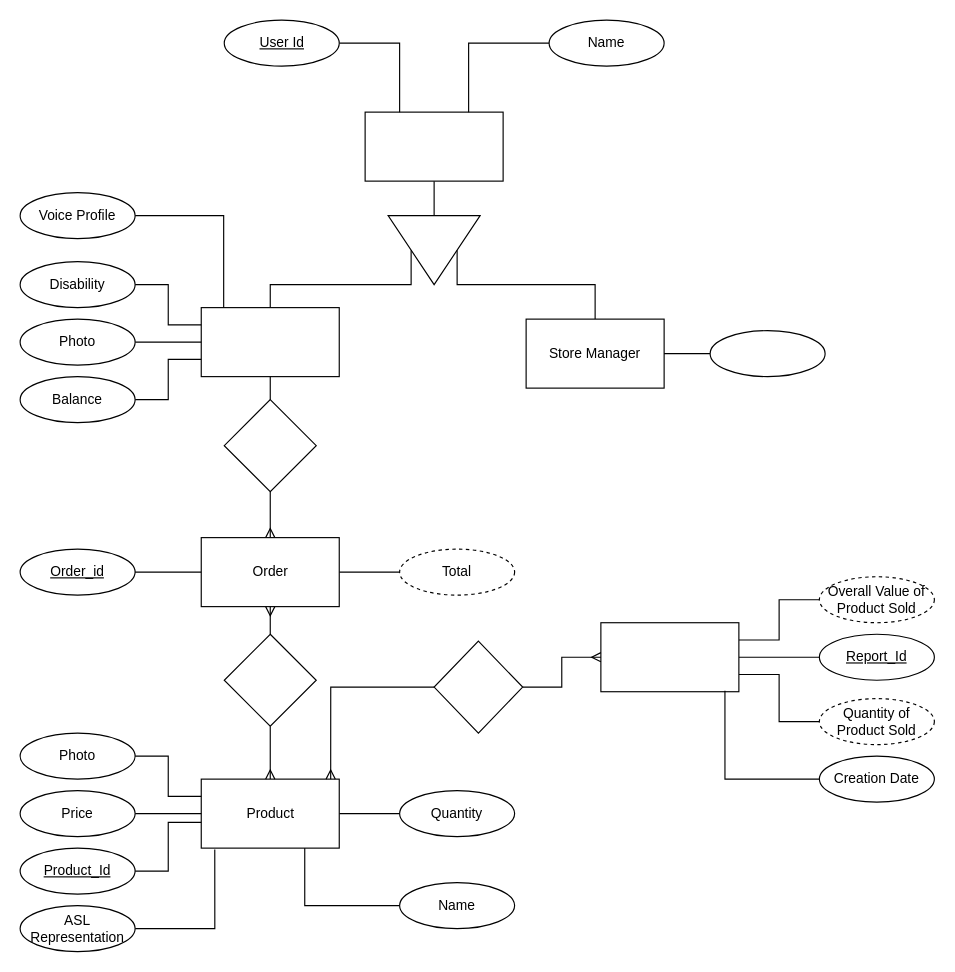
This 955x972 diagram has some shape labels left out. The shapes that lost their labels are listed below. From the top down, each one's centre as x and y in pixels, then its label:
At (x=433, y=146): "User".
At (x=433, y=249): "IS A".
At (x=269, y=341): "Customer".
At (x=767, y=353): "Branch Number".
At (x=269, y=445): "Places".
At (x=669, y=657): "Report".
At (x=269, y=679): "Contains".
At (x=478, y=686): "Has".
